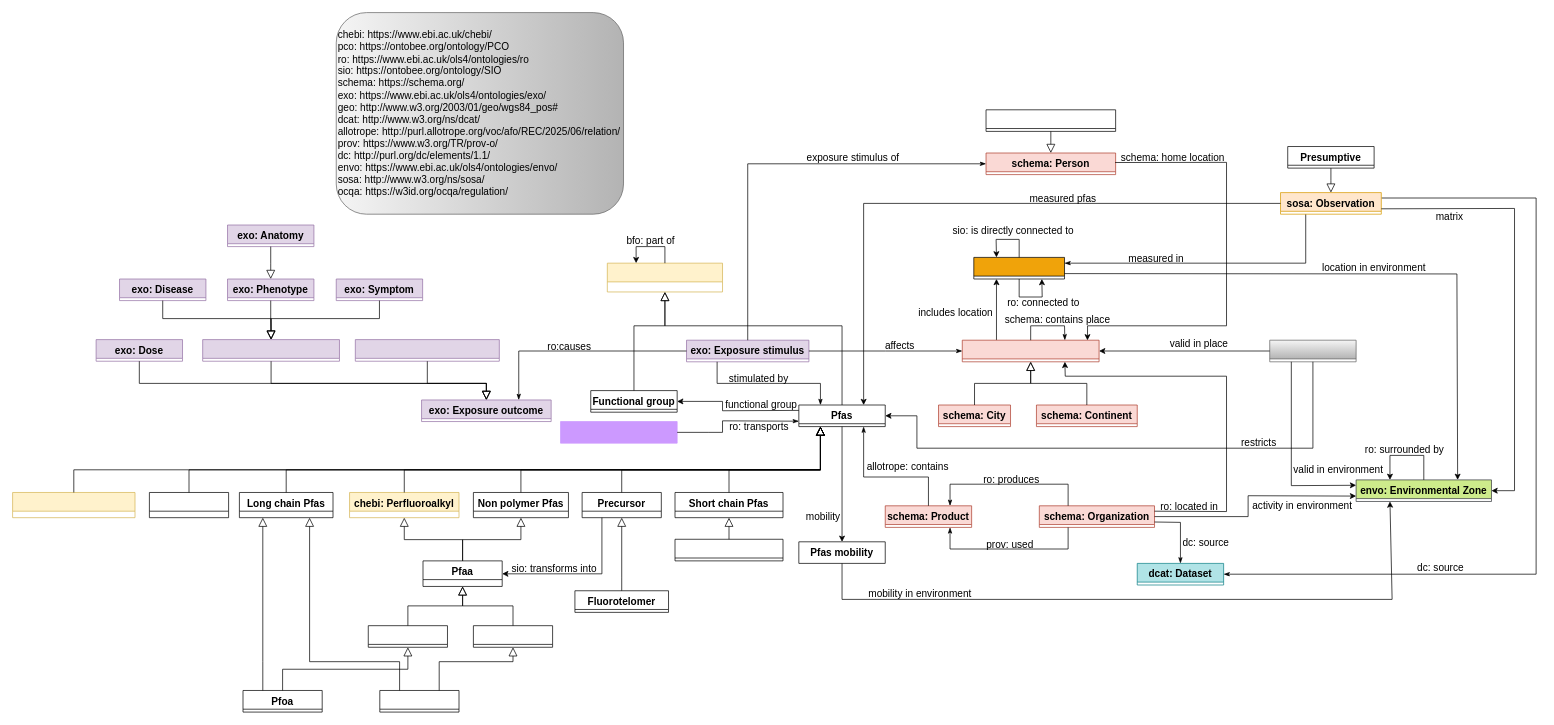
Some shapes in this 1554 by 725 pixel diagram are drawn without their labels. Each missing label, with the centre of its shape:
"chebi: Chemical entity" belongs at (x=665, y=277).
"chebi: Polyfluoroalkyl" belongs at (x=73, y=505).
"exo: Biological response" belongs at (x=270, y=350).
"exo: Exposure intervention" belongs at (x=427, y=350).
"geo: Location" belongs at (x=1019, y=268).
"ocqa: Regulation" belongs at (x=1312, y=350).
"pco: Organismal entity" belongs at (x=618, y=432).
"Pfca" belongs at (x=407, y=636).
"Pfos" belongs at (x=419, y=701).
"Pfsa" belongs at (x=513, y=636).
"Polymer Pfas" belongs at (x=189, y=505).
"schema: Place" belongs at (x=1030, y=350).
"Ultra short chain Pfas" belongs at (x=728, y=550).
"Vulnerable person" belongs at (x=1050, y=120).
